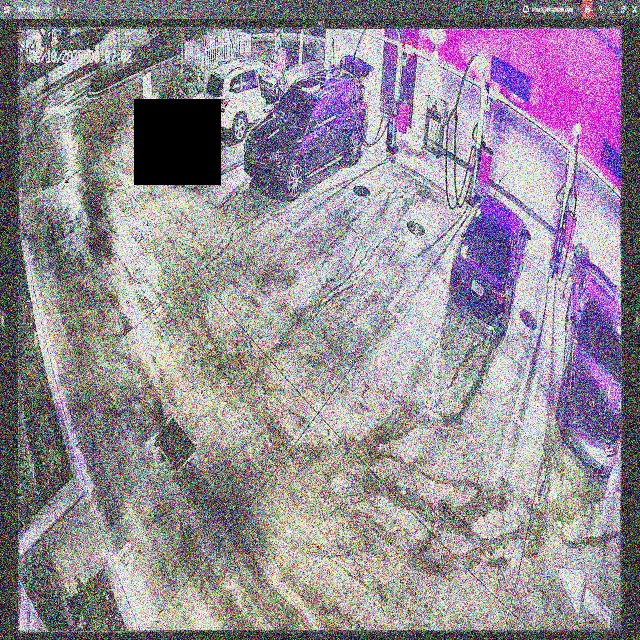Car: (243, 53, 370, 201), (448, 196, 529, 340), (202, 58, 297, 142)
